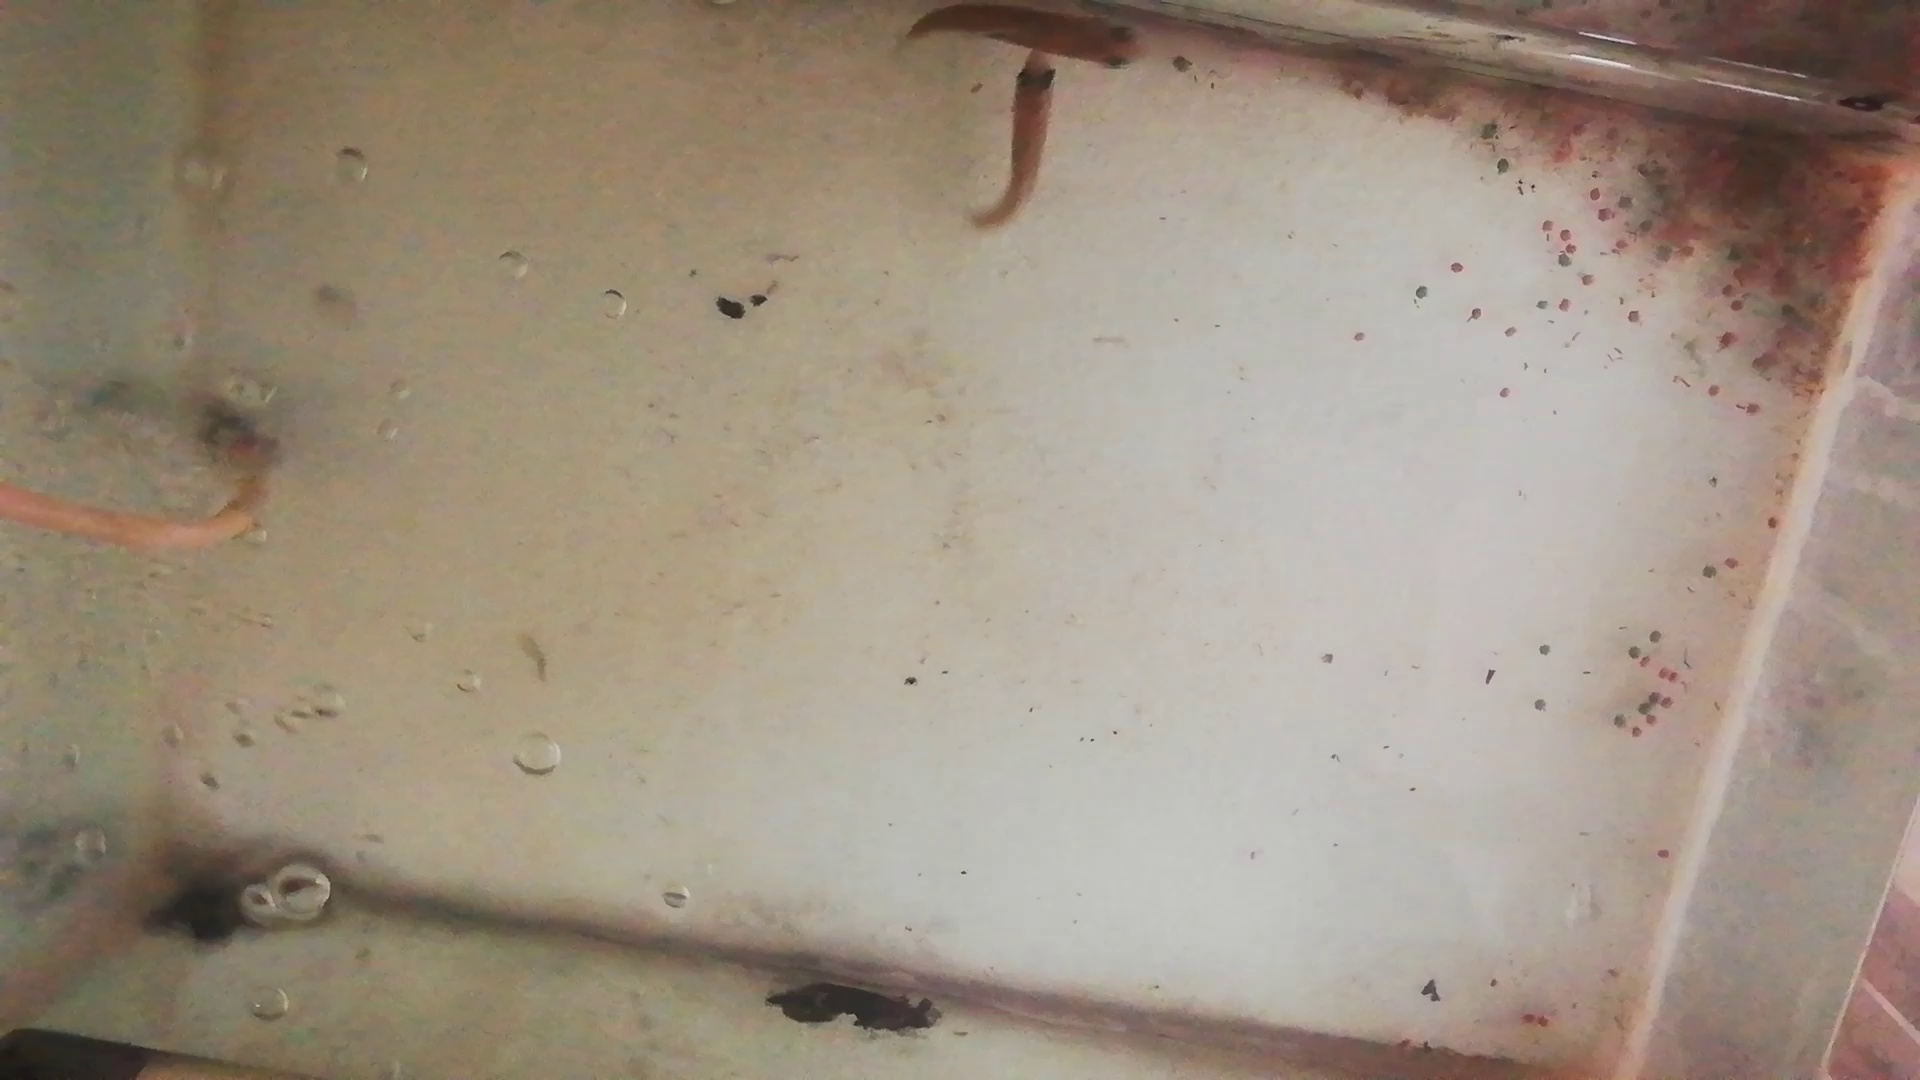fish: (895, 3, 1149, 69), (981, 47, 1062, 229)
